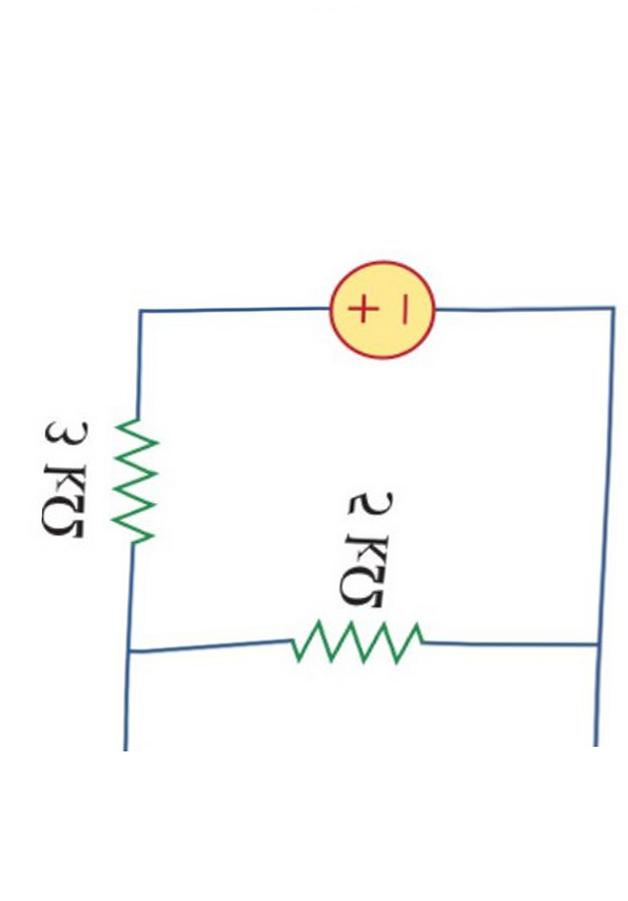Battery: (293, 234, 464, 388)
